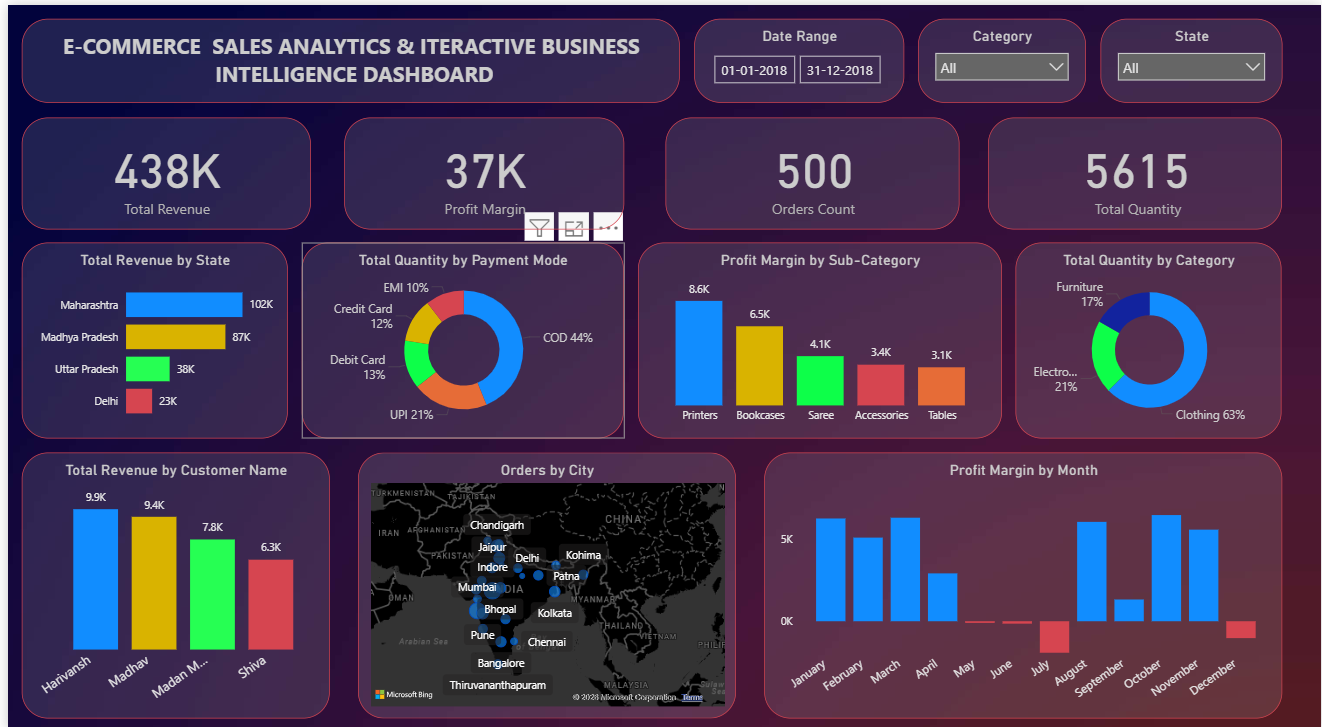

Layout of this report page (visuals, bound fields, positions):
{"tool":"powerbi","page":{"name":"Page 1","canvas":[1500,830],"ordinal":0},"visuals":[{"type":"textbox","box":[16,16,752,96],"z":0},{"type":"columnChart","fields":{"Y":["Sum(Details.Profit)"],"Category":["Orders.Order Date.Variation.Date Hierarchy.Month"]},"box":[864,512,592,304],"z":1000},{"type":"columnChart","fields":{"Category":["Details.Sub-Category"],"Y":["Sum(Details.Profit)"]},"box":[720,272,416,224],"z":2000},{"type":"donutChart","fields":{"Category":["Details.Category"],"Y":["Sum(Details.Quantity)"]},"box":[1152,272,304,224],"z":3000},{"type":"donutChart","fields":{"Y":["Sum(Details.Quantity)"],"Category":["Details.PaymentMode"]},"box":[336,272,368,224],"z":4000},{"type":"card","fields":{"Values":["Sum(Details.Amount)"]},"box":[16,128,330,128],"z":5000},{"type":"card","fields":{"Values":["Sum(Details.Profit)"]},"box":[384,128,320,128],"z":6000},{"type":"card","fields":{"Values":["Orders.Orders Count"]},"box":[752,128,336,128],"z":7000},{"type":"card","fields":{"Values":["Sum(Details.Quantity)"]},"box":[1120,128,336,128],"z":8000},{"type":"barChart","fields":{"Category":["Orders.State"],"Y":["Sum(Details.Amount)"]},"box":[16,272,304,224],"z":9000},{"type":"columnChart","fields":{"Category":["Orders.Customer Name"],"Y":["Sum(Details.Amount)"]},"box":[16,512,352,304],"z":10000},{"type":"slicer","title":"State","fields":{"Values":["Orders.State"]},"box":[1248,16,208,96],"z":11000},{"type":"map","title":"Orders by City","fields":{"Category":["Orders.City"],"Size":["CountNonNull(Orders.Order ID)"]},"box":[400,512,432,304],"z":12000},{"type":"slicer","title":"Category","fields":{"Values":["Details.Category"]},"box":[1040,16,192,96],"z":13000},{"type":"slicer","title":"Date Range","fields":{"Values":["Orders.Order Date"]},"box":[784,16,240,96],"z":14000}]}

Visuals, with their boxes in screenshot pixels (x1, y1, x2, y2), scaled from the page's 1500x830 canvas onto the 1322x727 screenshot:
textbox: {"left": 14, "top": 14, "right": 677, "bottom": 98}
columnChart - Sum(Details.Profit) x Orders.Order Date.Variation.Date Hierarchy.Month: {"left": 761, "top": 448, "right": 1283, "bottom": 715}
columnChart - Details.Sub-Category x Sum(Details.Profit): {"left": 635, "top": 238, "right": 1001, "bottom": 434}
donutChart - Details.Category x Sum(Details.Quantity): {"left": 1015, "top": 238, "right": 1283, "bottom": 434}
donutChart - Sum(Details.Quantity) x Details.PaymentMode: {"left": 296, "top": 238, "right": 620, "bottom": 434}
card - Sum(Details.Amount): {"left": 14, "top": 112, "right": 305, "bottom": 224}
card - Sum(Details.Profit): {"left": 338, "top": 112, "right": 620, "bottom": 224}
card - Orders.Orders Count: {"left": 663, "top": 112, "right": 959, "bottom": 224}
card - Sum(Details.Quantity): {"left": 987, "top": 112, "right": 1283, "bottom": 224}
barChart - Orders.State x Sum(Details.Amount): {"left": 14, "top": 238, "right": 282, "bottom": 434}
columnChart - Orders.Customer Name x Sum(Details.Amount): {"left": 14, "top": 448, "right": 324, "bottom": 715}
"State" slicer: {"left": 1100, "top": 14, "right": 1283, "bottom": 98}
"Orders by City" map: {"left": 353, "top": 448, "right": 733, "bottom": 715}
"Category" slicer: {"left": 917, "top": 14, "right": 1086, "bottom": 98}
"Date Range" slicer: {"left": 691, "top": 14, "right": 902, "bottom": 98}
